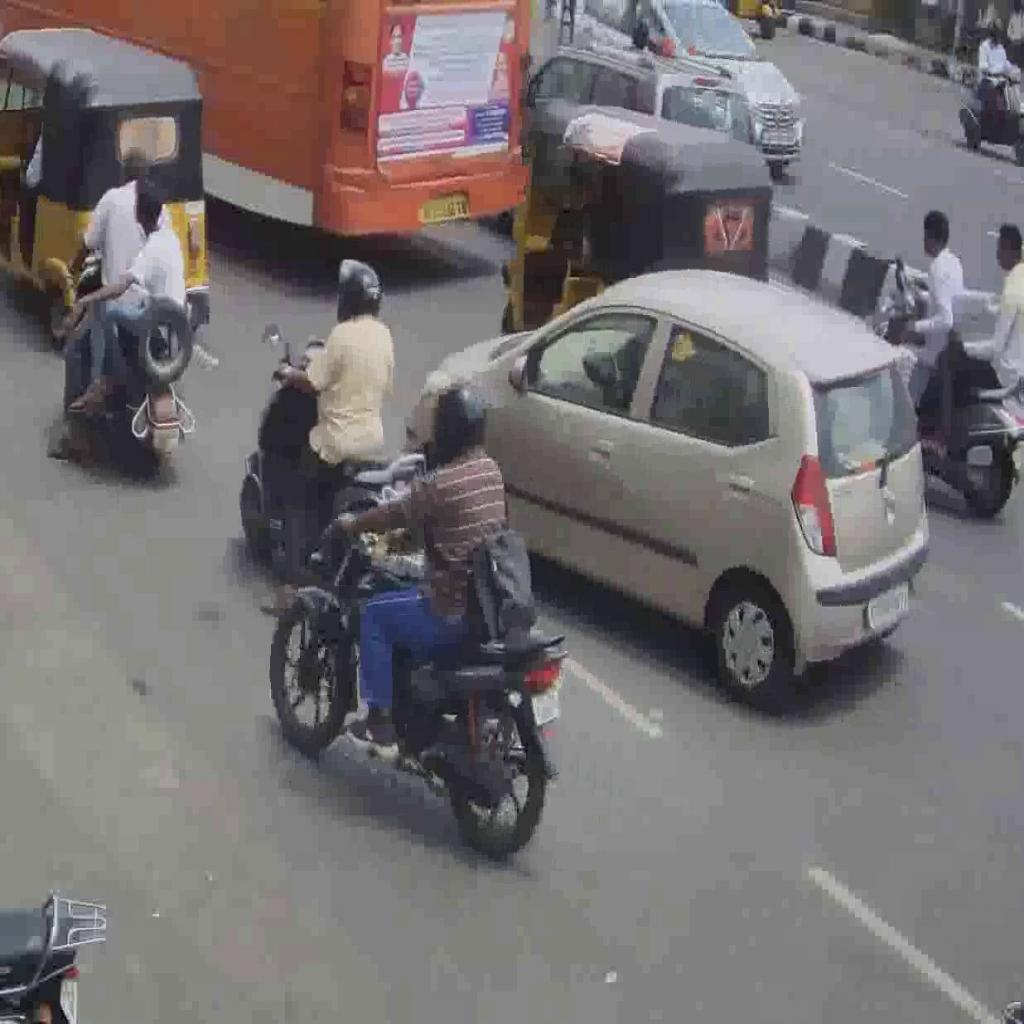helmet: (272, 510, 565, 864), (876, 271, 1023, 503), (235, 336, 401, 540)
